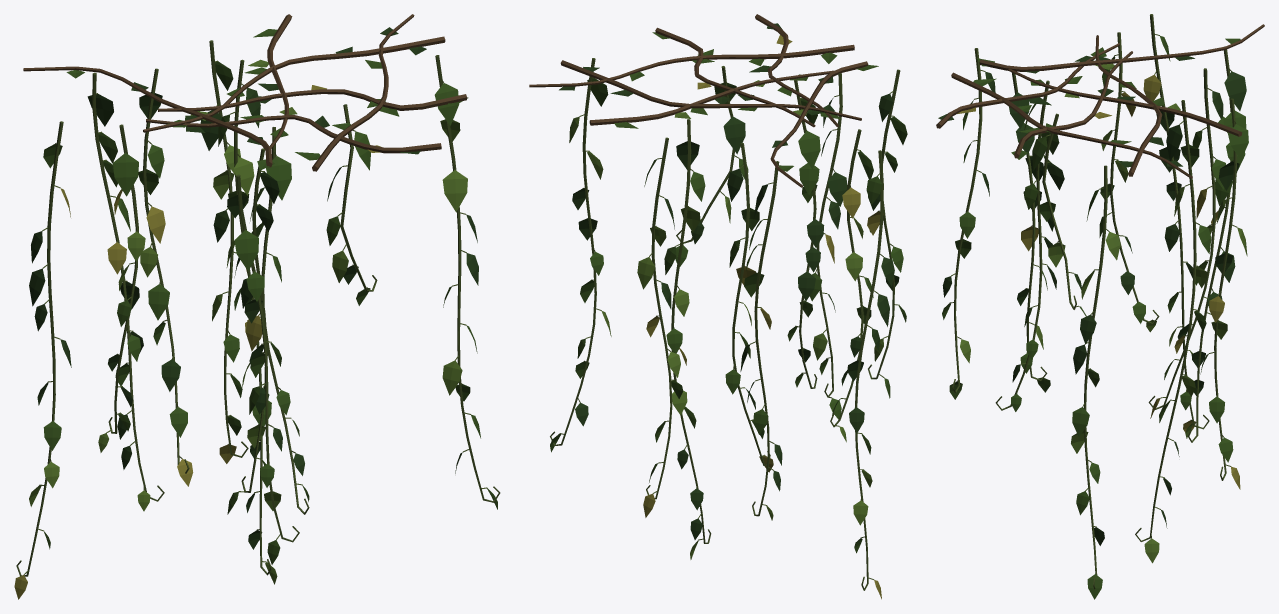
Rendered from vines_ceiling.glb.
3 renders of one model, left to right at view 1: azimuth 30°, elevation 25°; view 2: azimuth 150°, elevation 25°; view 3: azimuth 270°, elevation 25°, orthographic. The views are drawn at different scales.
Visible parts, largest first — view 1: teil5, teil2, teil1, teil0, teil4, teil3; view 2: teil5, teil2, teil1, teil0, teil4, teil3; view 3: teil5, teil2, teil1, teil0, teil4, teil3.
Boxes of the visible parts, left/top/right/bottom form: teil5: left=16, top=40, right=500, bottom=576; teil2: left=43, top=29, right=497, bottom=564; teil1: left=29, top=27, right=478, bottom=549; teil0: left=23, top=14, right=467, bottom=171; teil4: left=29, top=59, right=467, bottom=584; teil3: left=14, top=85, right=380, bottom=599; teil5: left=550, top=58, right=900, bottom=590; teil2: left=550, top=32, right=907, bottom=553; teil1: left=559, top=23, right=899, bottom=539; teil0: left=529, top=14, right=868, bottom=187; teil4: left=569, top=80, right=883, bottom=559; teil3: left=643, top=35, right=883, bottom=599; teil5: left=949, top=14, right=1237, bottom=589; teil2: left=942, top=36, right=1248, bottom=599; teil1: left=938, top=55, right=1246, bottom=545; teil0: left=936, top=24, right=1264, bottom=178; teil4: left=960, top=63, right=1247, bottom=563; teil3: left=957, top=74, right=1240, bottom=489.
Bounding box in the file's own units: 1.18 × 1.37 × 0.8854.
